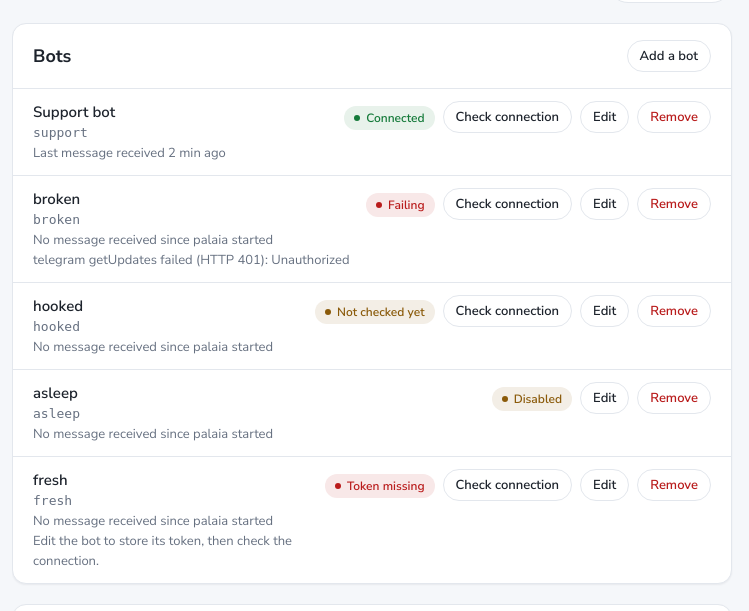
Test case: Telegram screen copy — no jargon in the surface (system.md §3 rule 0) › no heading, button, badge, or field label uses a protocol name or acronym
Expected: the text "Connected" is shown, [344,106,434,130]
// Open every editor, so their labels and buttons are checked too.
Click the button "Add a bot": (669, 56) [627,40,711,72]
(page scrolled)
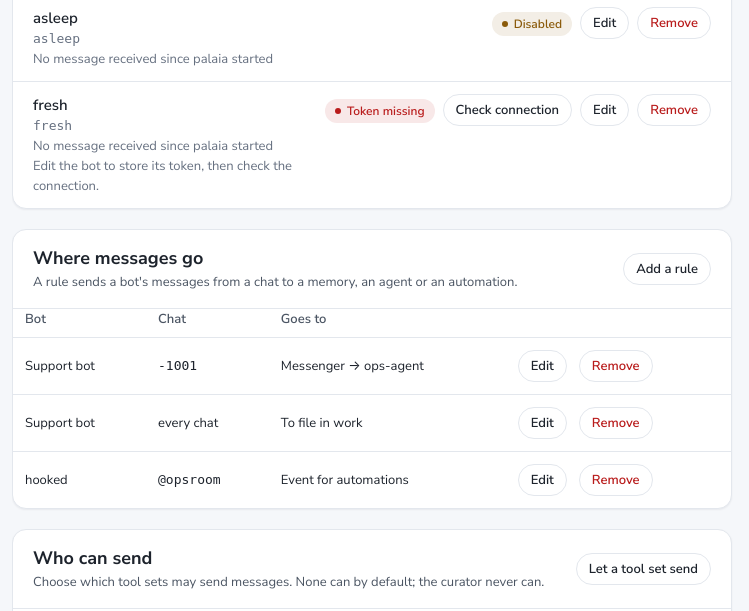
Click the button "Add a rule": (667, 269) [623,253,711,285]
(page scrolled)
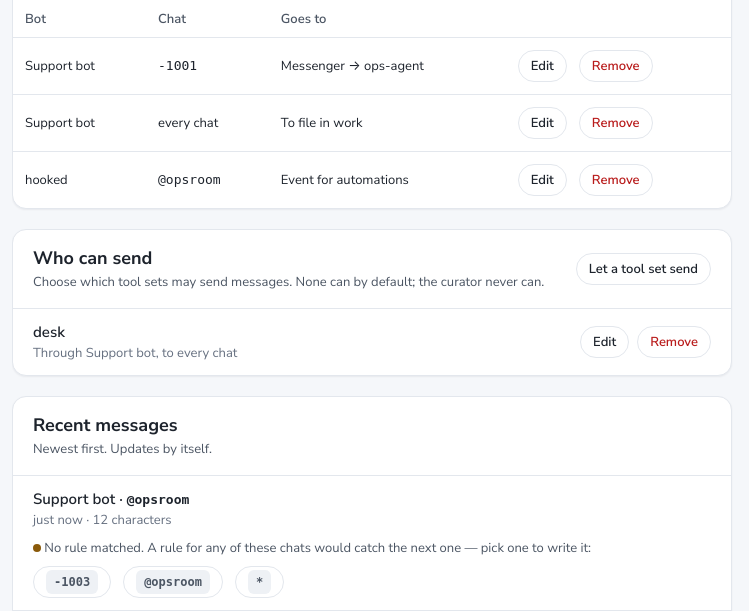
Click the button "Let a tool set send": (643, 269) [576,253,711,285]
(page scrolled)
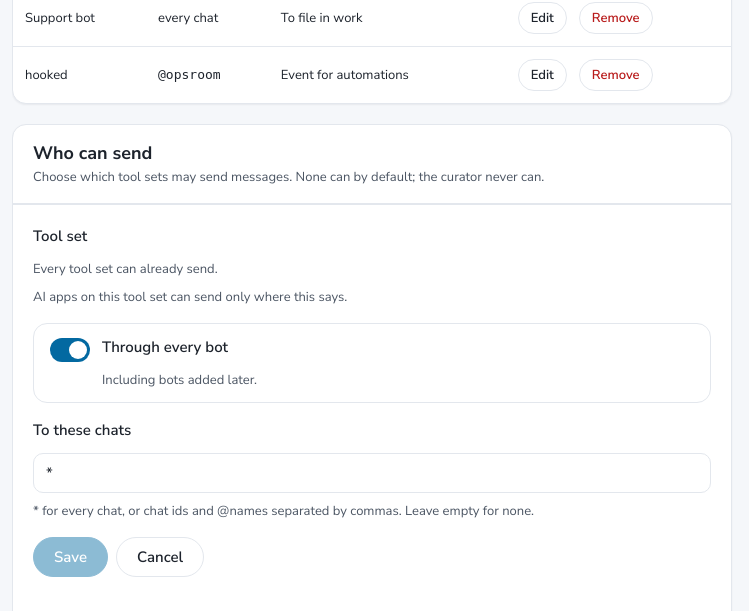
Expected: the text "Every tool set can already send." is shown, [33,260,218,278]
